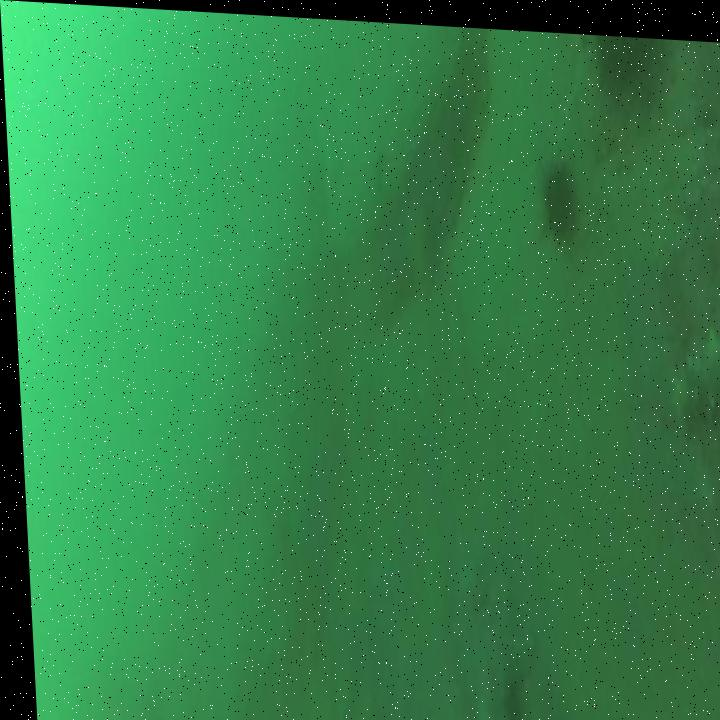echinus: (584, 31, 679, 113), (529, 142, 583, 250)
holothurian: (661, 308, 720, 423)
